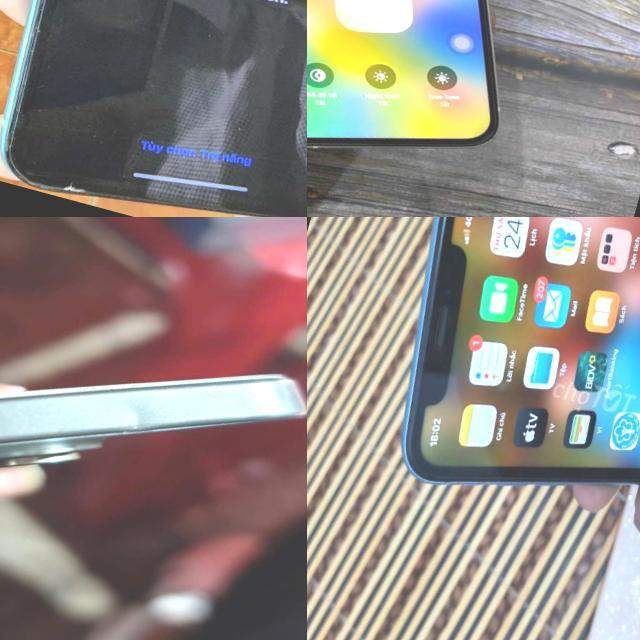gen_11: (0, 0, 307, 217)
gen_12_13: (307, 0, 584, 198)
gen_15: (0, 255, 307, 591)
gen_x_xs: (402, 217, 640, 483)
